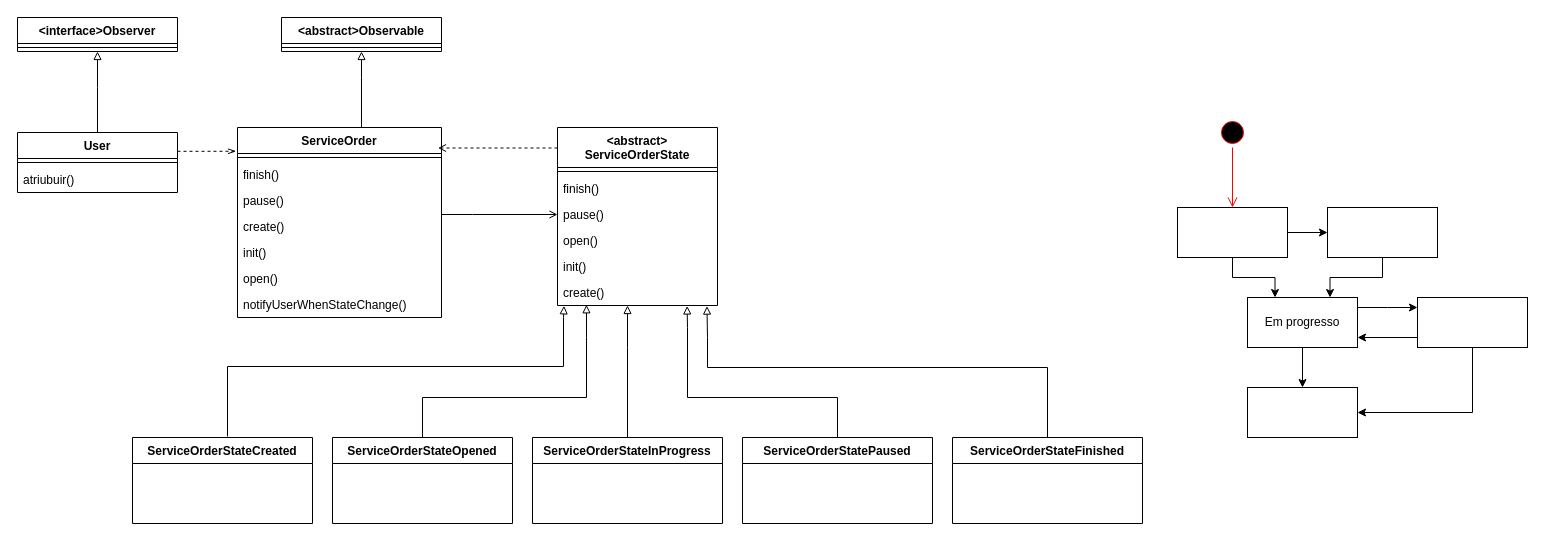
The diagram is 1545 pixels wide and 541 high, and some of its shapes have lost their labels. The shapes that lost their labels are listed below. From the top down, each one's centre as x and y in pixels, then its label:
the point at 1232,232: Criado
the point at 1382,232: Aberto
the point at 1472,322: Pausado
the point at 1302,412: Finalizado
